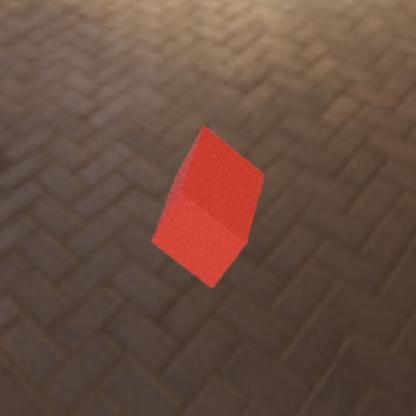red_cube: (151, 125, 264, 288)
